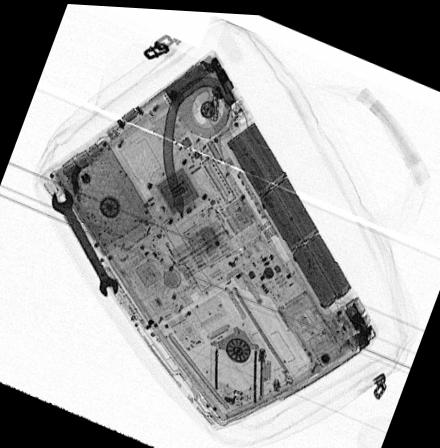Wrench: (50, 187, 120, 295)
